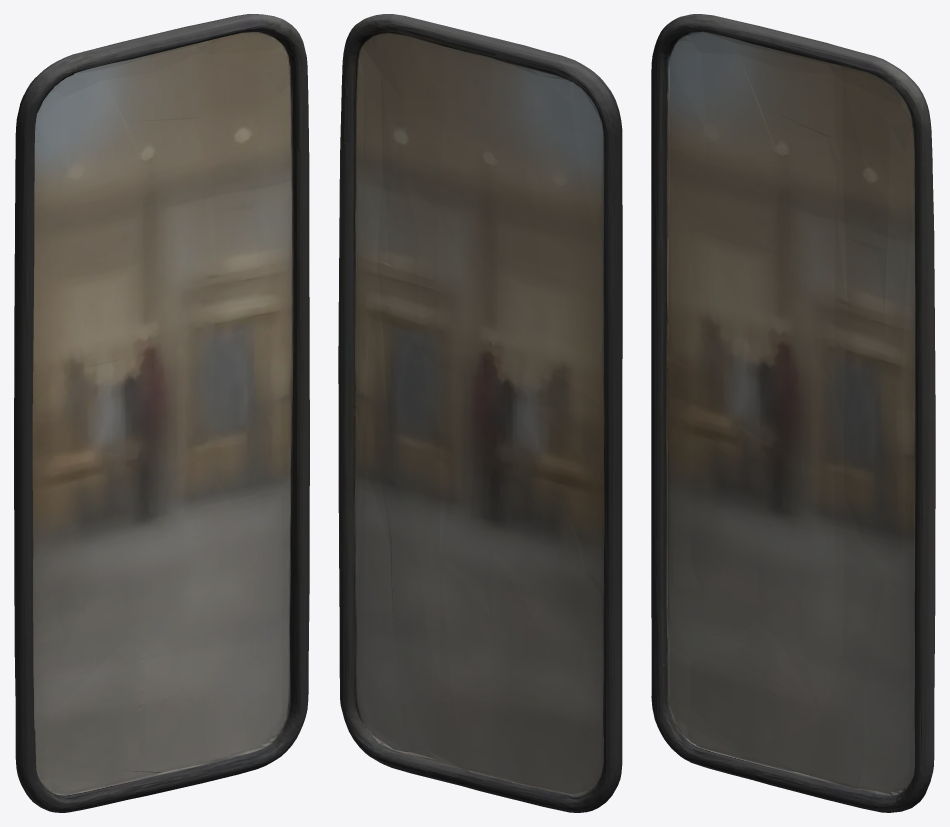
3 views of the same model, side by side, from view 1: azimuth 30°, elevation 25°; view 2: azimuth 150°, elevation 25°; view 3: azimuth 330°, elevation 25° (orthographic).
Parts seen in each view (by area): view 1: geometry_0; view 2: geometry_0; view 3: geometry_0.
Boxes of the visible parts, <box> form: geometry_0: <box>14,14,309,812</box>; geometry_0: <box>338,14,622,812</box>; geometry_0: <box>651,14,935,812</box>.
Bounding box in the file's own units: 0.3991 × 1 × 0.0393.
1 material, 1 textured.
